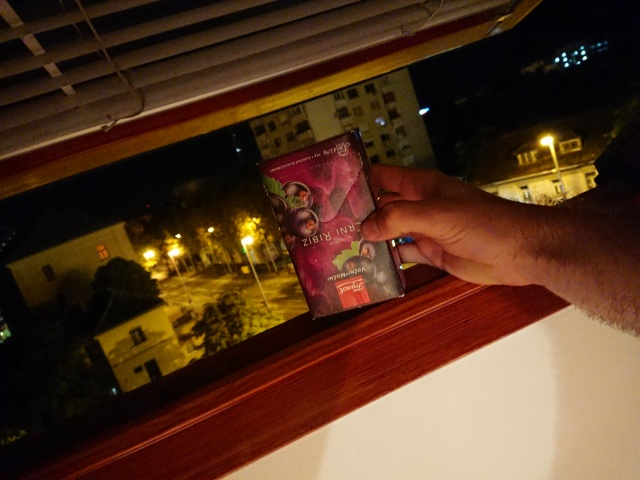Franck Black Currant Tea 60g: (250, 124, 410, 324)
